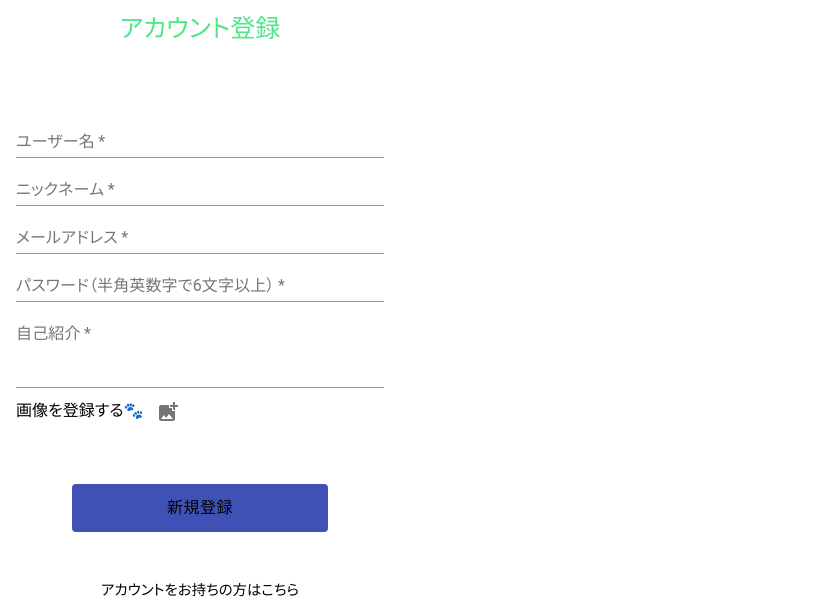
Test case: Rendering SignUp › メールアドレス未入力、「アカウント登録」ボタン押すとエラー発生する
Type "test test" into the field with placeholder "ユーザー名". click: (200, 142)
box: left=16, top=126, right=384, bottom=158
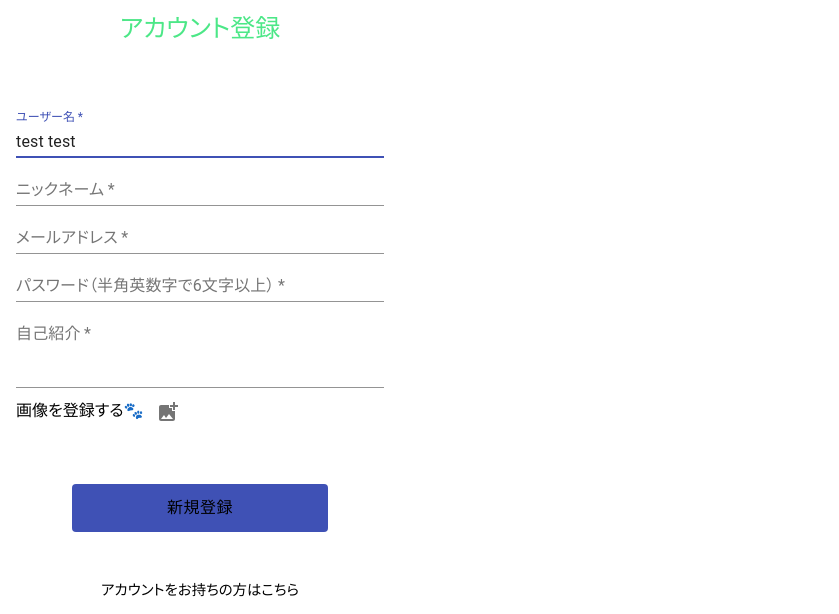
Type "12345678" into the password field with placeholder "パスワード（半角英数字で6文字以上）". click: (200, 286)
box: left=16, top=270, right=384, bottom=302
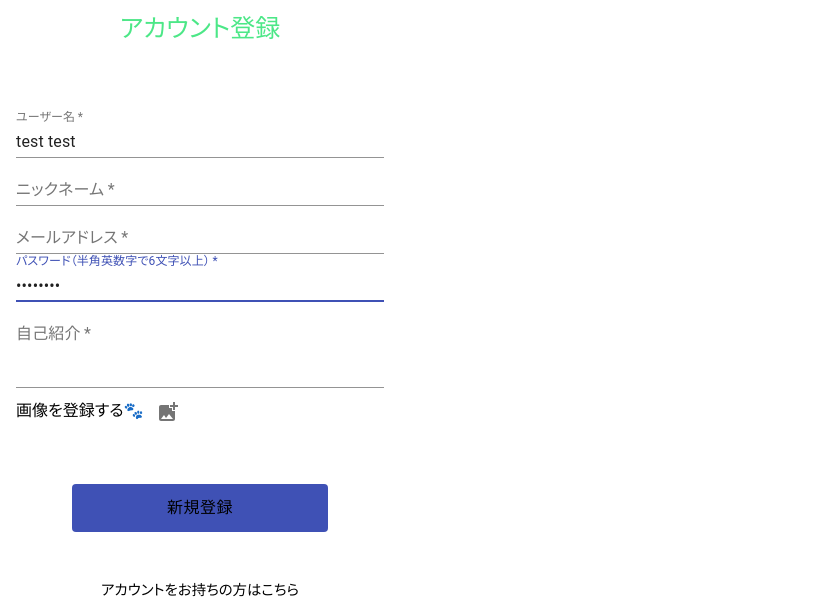
Click the button "新規登録". click: (200, 508)
box: left=72, top=484, right=328, bottom=532
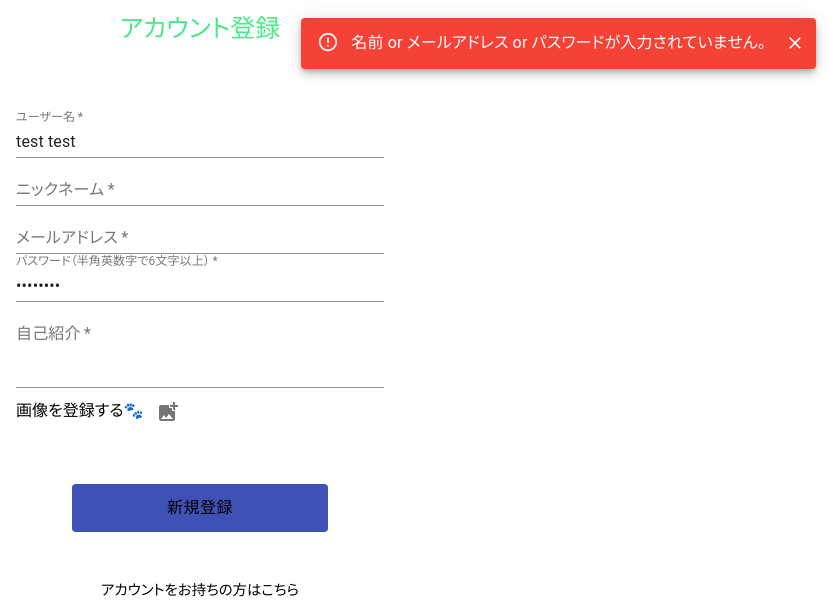
expect the text "名前 or メールアドレス or パスワードが入力されていません。" is shown: met, box left=351, top=33, right=766, bottom=52
